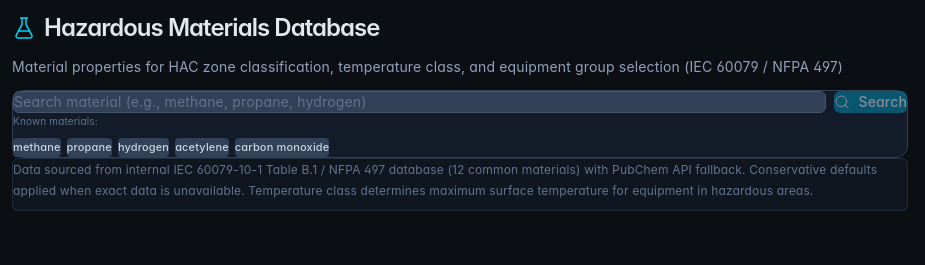
Scenario: HazMatPage › shows error when material is not found
Type "unknown_gas" into the field with placeholder "Search material (e.g., methane, propane, hydrogen)".
click(420, 102); type("unknown_gas")  # box [13, 91, 826, 113]
Then press Enter
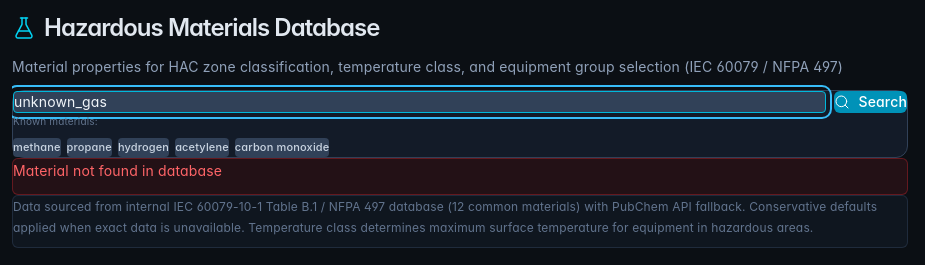
Result: the text "Material not found in database" is shown at [13, 162, 222, 179]
